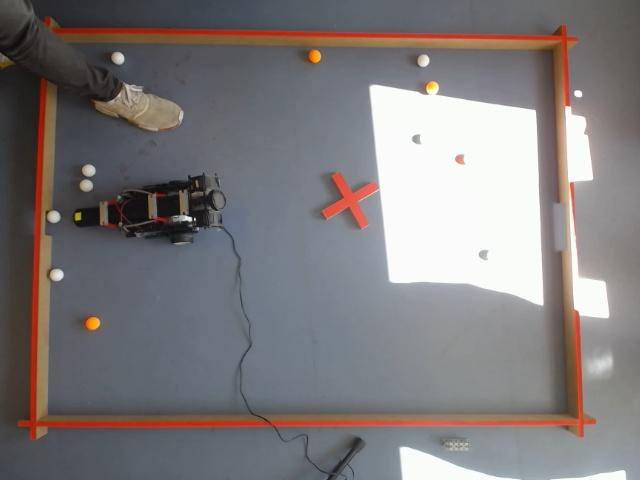orange: (306, 48, 322, 65), (424, 80, 439, 96), (85, 317, 100, 330)
robot: (72, 175, 226, 244)
robot-front: (73, 207, 97, 227)
white: (416, 53, 430, 69), (46, 209, 60, 224), (111, 50, 125, 65), (79, 179, 94, 193), (82, 164, 96, 178), (49, 269, 64, 282)
